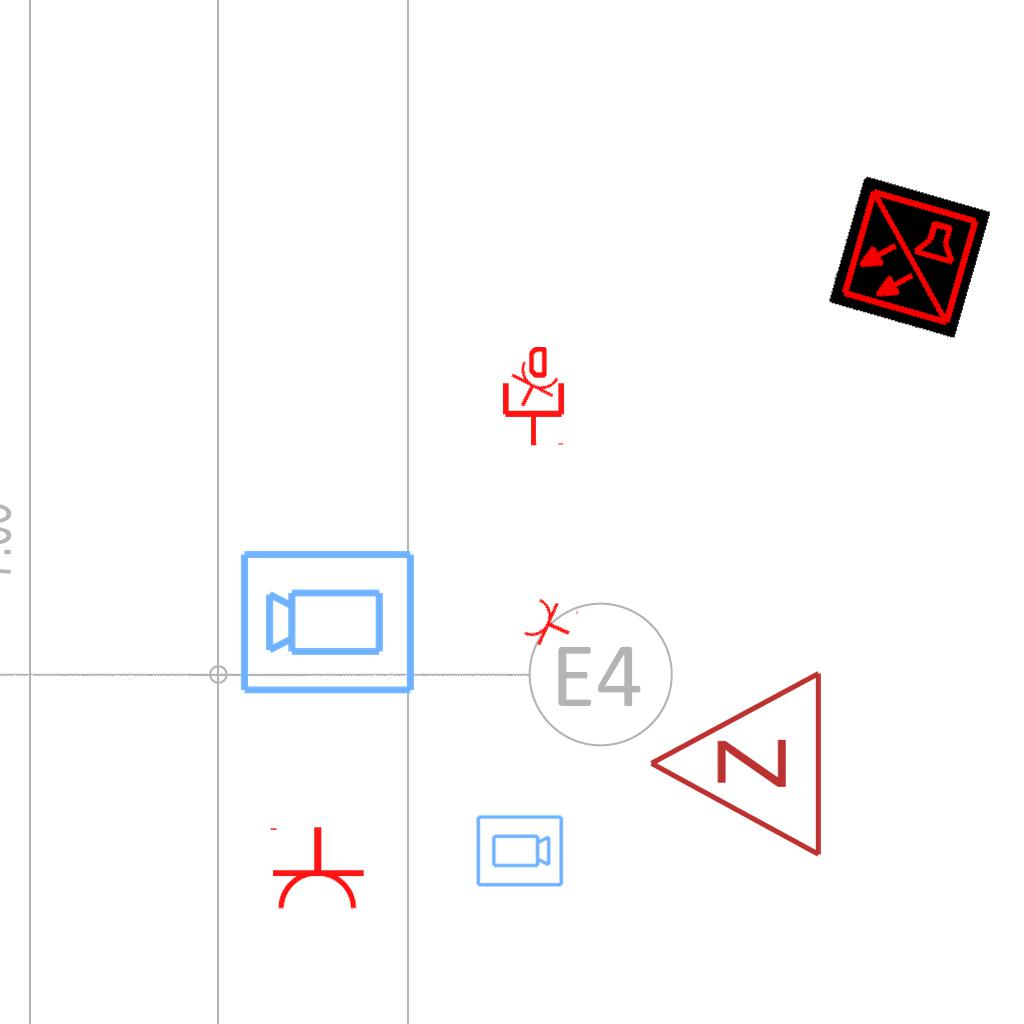Datenanschluss_einfach: (499, 347, 568, 447)
KFO_Kamera_mit_Festobjektiv: (237, 544, 419, 698), (474, 813, 565, 890)
OKW_Multisensormelder_(Kombination_optischer_Rauch-Kahlenmonoxid_Waerme-Melder): (827, 175, 991, 339)
Schukosteckdose_einfach: (266, 825, 366, 912), (500, 357, 565, 419), (520, 592, 581, 656)
Zimmersignalleuchte: (636, 668, 836, 864)
